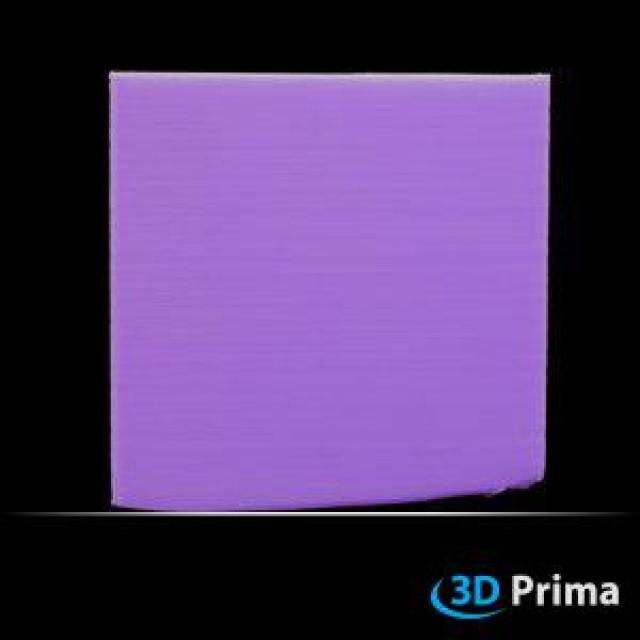Warping: (298, 439, 586, 528)
